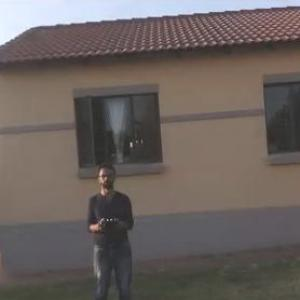follow: (83, 152, 139, 299)
